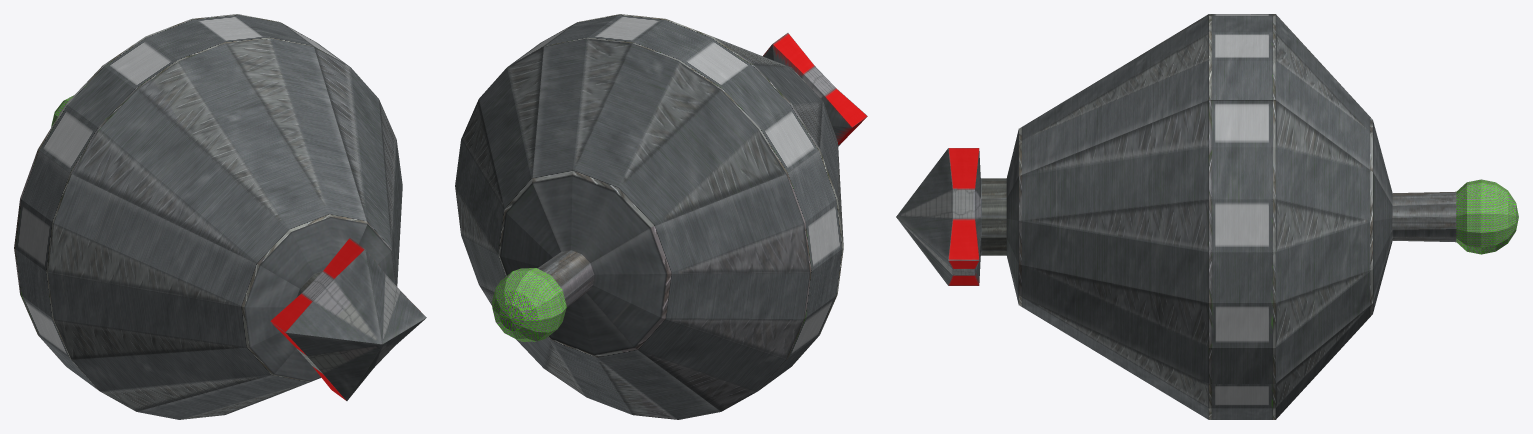
Rendered from spacestation.fbx.
The picture shows the model from 3 angles, left to right: view 1: azimuth 30°, elevation 25°; view 2: azimuth 150°, elevation 25°; view 3: azimuth 270°, elevation 25°; orthographic projection.
Visible parts, largest first — view 1: Cylinder; view 2: Cylinder; view 3: Cylinder.
Part boxes in pixels (x1,y1,x2,y2): Cylinder: [14, 14, 426, 419]; Cylinder: [455, 14, 867, 419]; Cylinder: [896, 14, 1518, 419].
Size of the model in its own units: 4724 by 4724 by 7220.
